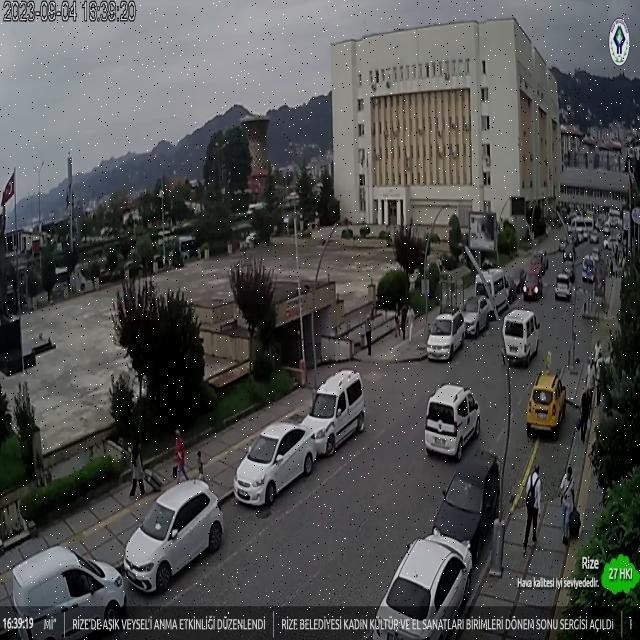Car: (125, 478, 223, 596), (374, 533, 476, 639), (430, 451, 500, 563), (233, 422, 319, 506), (424, 383, 482, 461), (525, 370, 566, 438), (425, 310, 466, 362), (460, 293, 493, 336), (521, 272, 543, 301), (505, 268, 524, 301), (554, 272, 575, 300), (532, 250, 550, 274), (582, 257, 596, 283), (562, 246, 574, 262)
Van: (10, 547, 126, 636), (302, 370, 364, 455), (502, 309, 540, 365)
